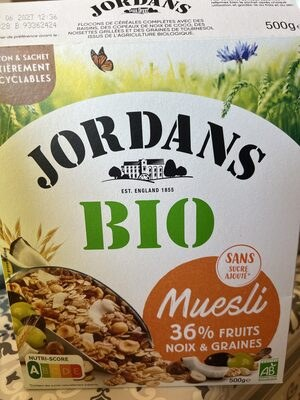Muesli 36% fruits noix & graines: (15, 20, 285, 380)
